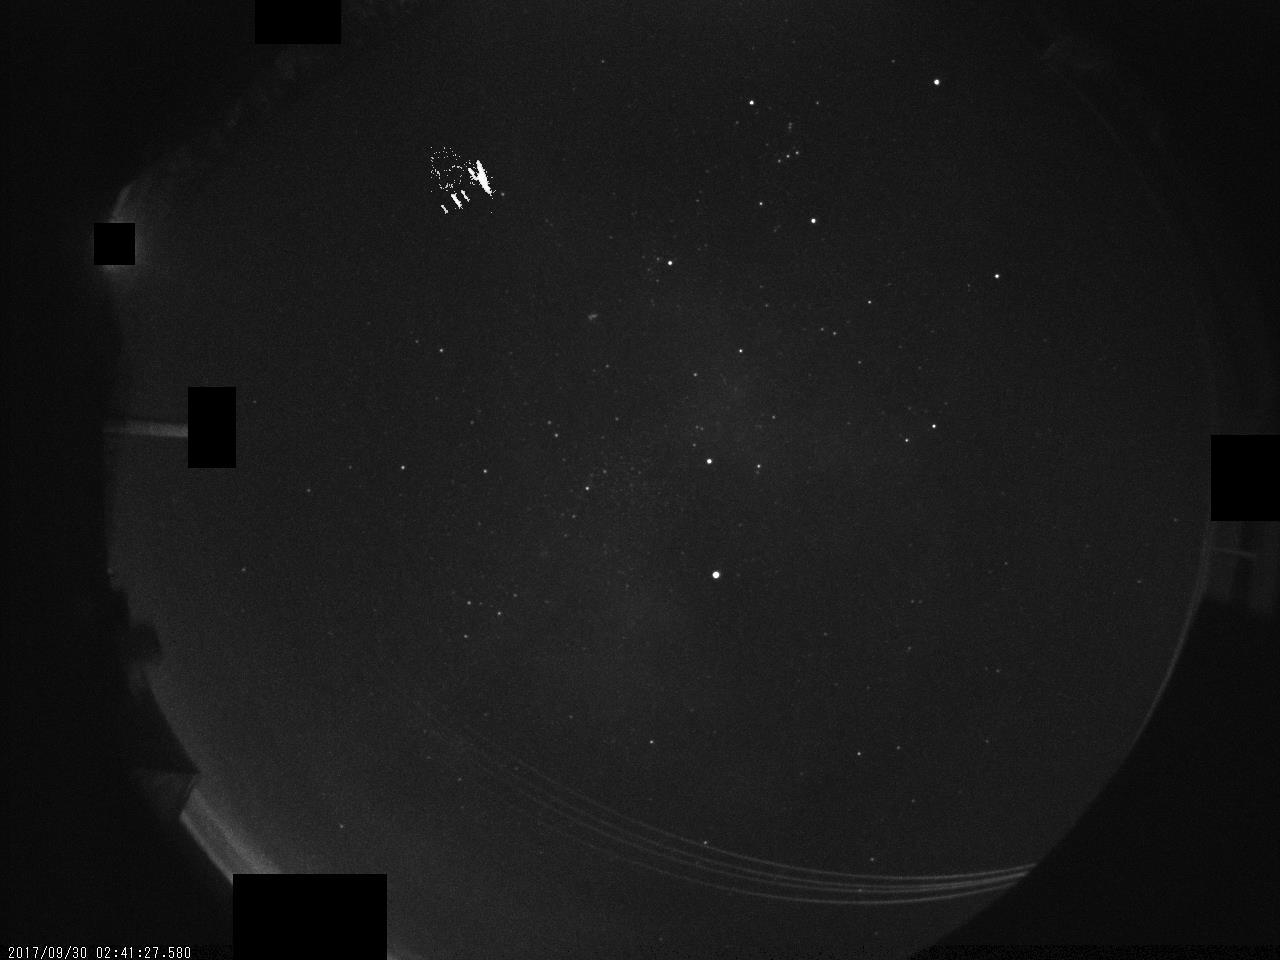TLE: (431, 147, 508, 226)
